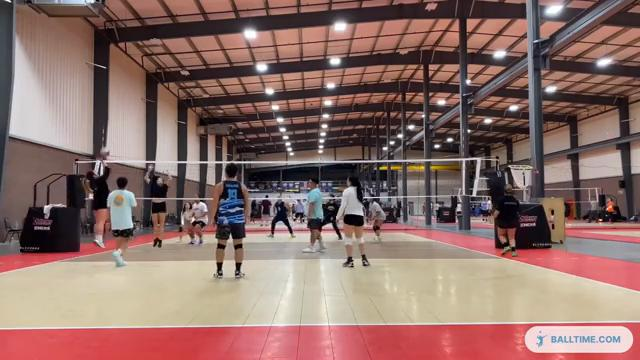attacco: (80, 151, 114, 250)
